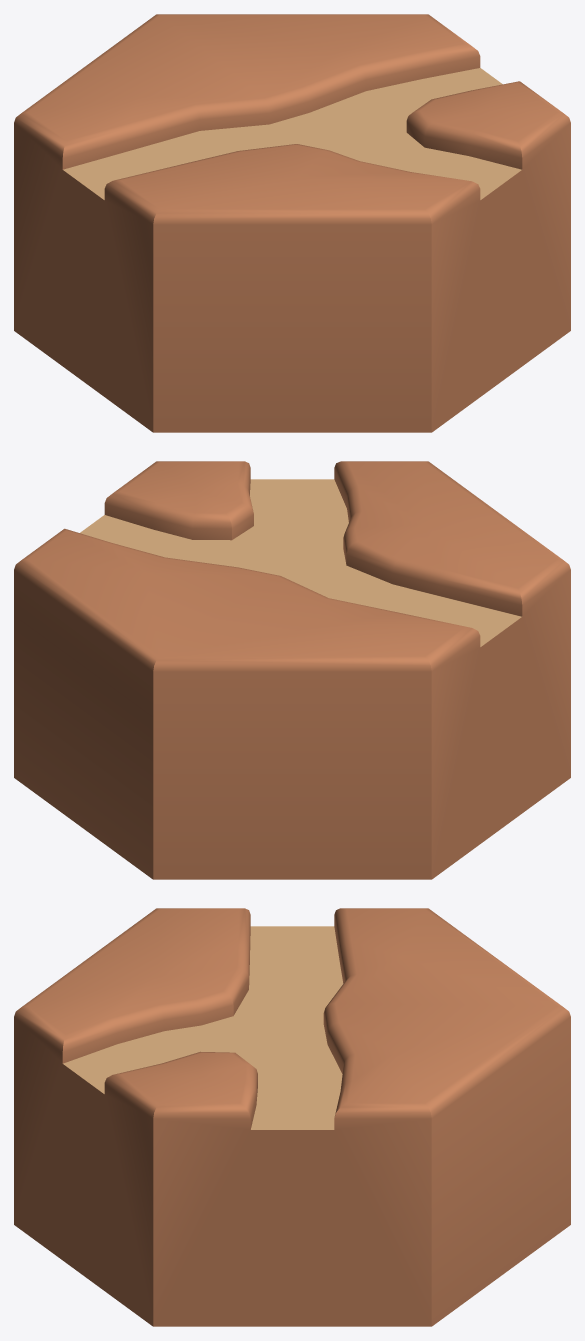
The model's file is hex_rock_roadE.glb.
3 views of the same model, one above another, from view 1: azimuth 30°, elevation 25°; view 2: azimuth 150°, elevation 25°; view 3: azimuth 270°, elevation 25° (orthographic).
Parts seen in each view (by area): view 1: hex_rock_roadE; view 2: hex_rock_roadE; view 3: hex_rock_roadE.
Boxes of the visible parts, x1,y1,x2,y2 form: hex_rock_roadE: [14, 14, 570, 432]; hex_rock_roadE: [14, 461, 570, 879]; hex_rock_roadE: [14, 908, 570, 1326].
Bounding box in the file's own units: 3.82 × 1.91 × 4.41.
